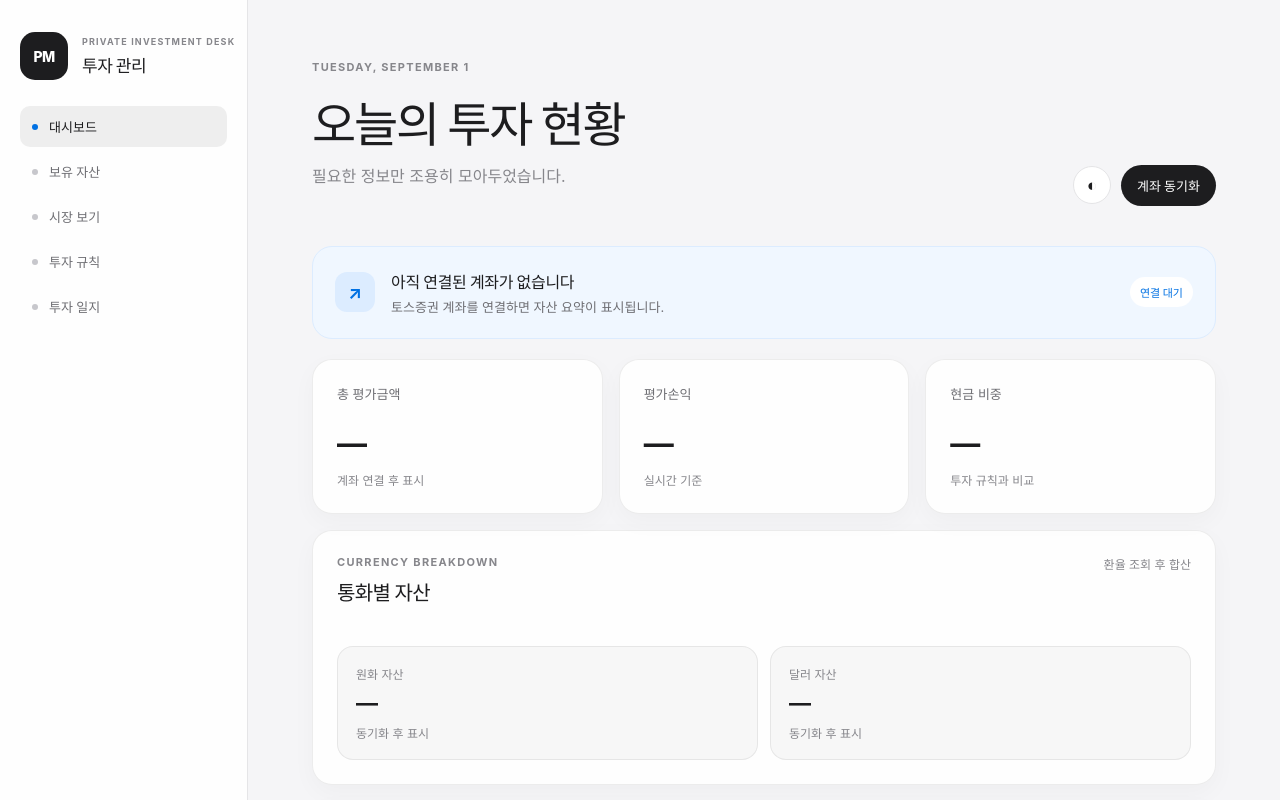
Scenario: DashboardPage › shows a sync error without inventing portfolio values
Click the button "계좌 동기화".
click(1169, 185)  # box x1=1121 y1=165 x2=1216 y2=206
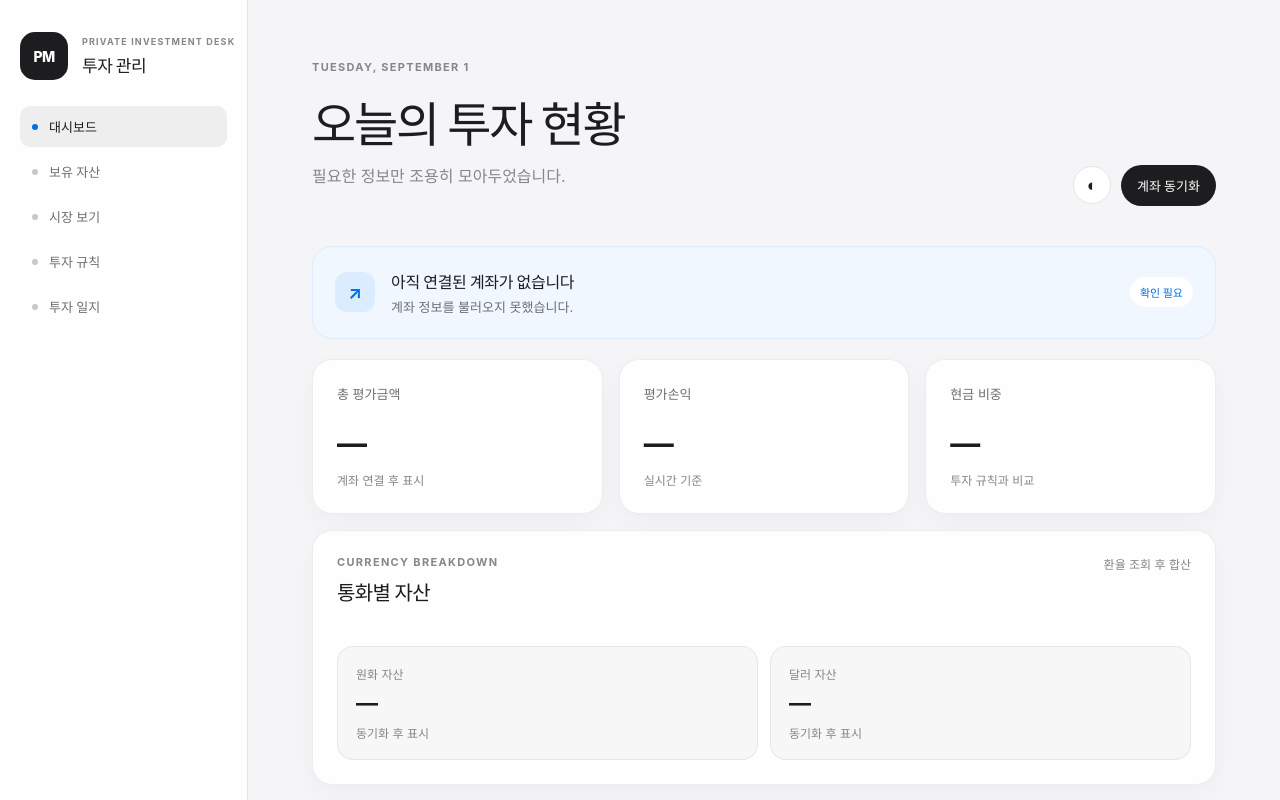
Expected: the text "—" below "총 평가금액" is shown, x1=337 y1=425 x2=366 y2=461
Expected: the text "계좌 정보를 불러오지 못했습니다." is shown, x1=391 y1=297 x2=574 y2=316
